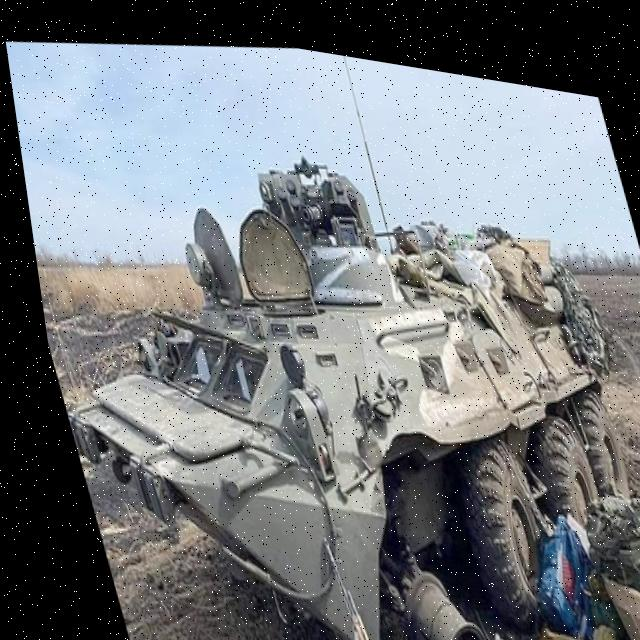MIL_APC: (17, 135, 640, 640)
